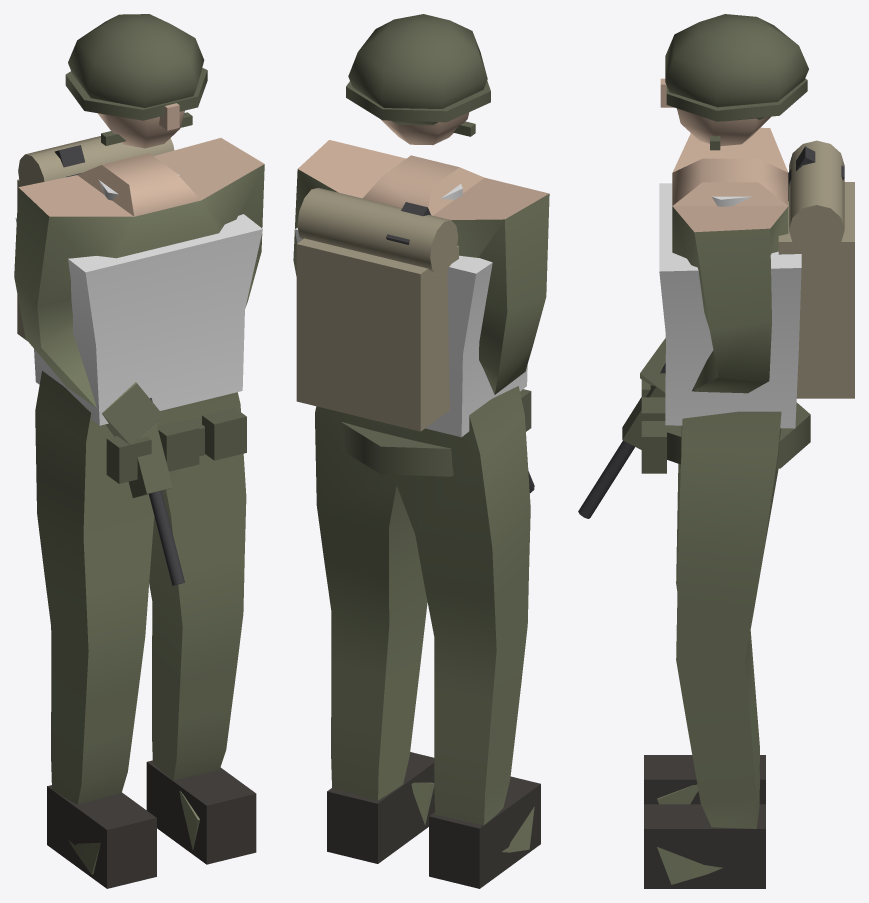
File: rifleman_lod1.glb
3 views of the same model, side by side, from view 1: azimuth 30°, elevation 25°; view 2: azimuth 150°, elevation 25°; view 3: azimuth 270°, elevation 25° (orthographic). The views are drawn at different scales.
Visible parts, largest first — view 1: body; view 2: body; view 3: body.
Part boxes in pixels (bbox=[...]): body: bbox=[14, 14, 264, 888]; body: bbox=[293, 14, 549, 888]; body: bbox=[578, 14, 854, 888].
Bounding box in the file's own units: 0.518 × 1.8 × 0.5449.
